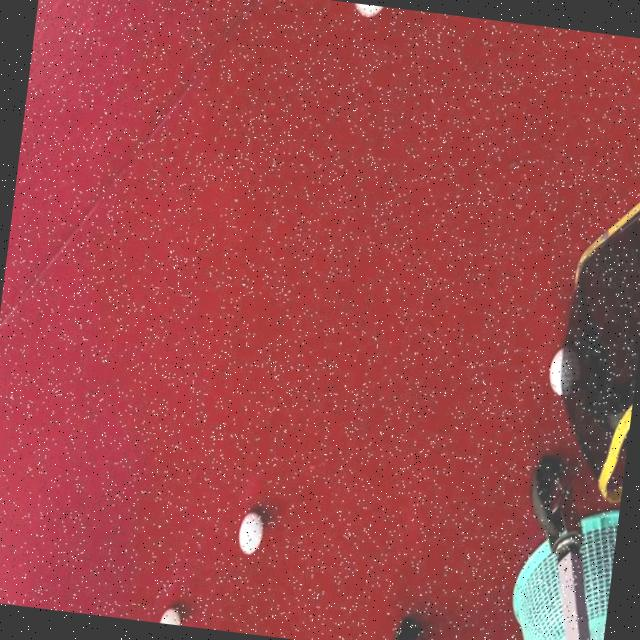ping-pong-ball: (546, 341, 583, 398), (233, 508, 266, 558), (156, 603, 181, 625)
